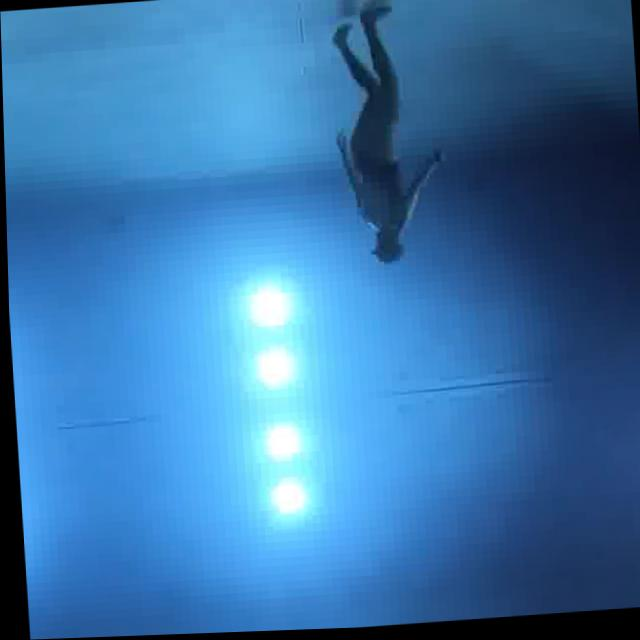human: (320, 0, 458, 279)
